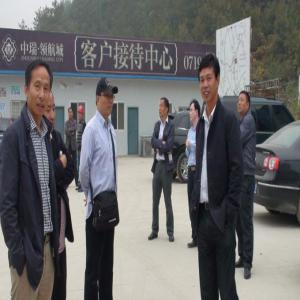none: (24, 59, 51, 115), (199, 53, 221, 107), (95, 77, 115, 121), (44, 89, 58, 133), (237, 90, 252, 120), (159, 95, 171, 122), (189, 103, 202, 126), (68, 107, 75, 122)
red: (78, 104, 85, 121)
